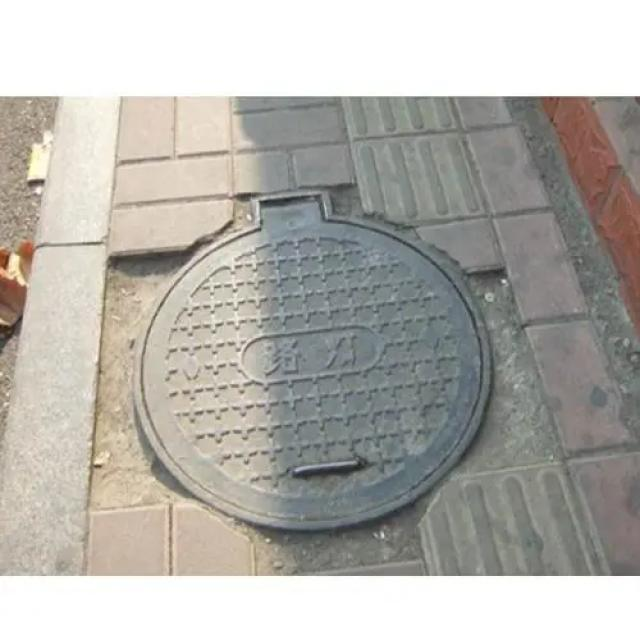manhole: (135, 195, 490, 529)
